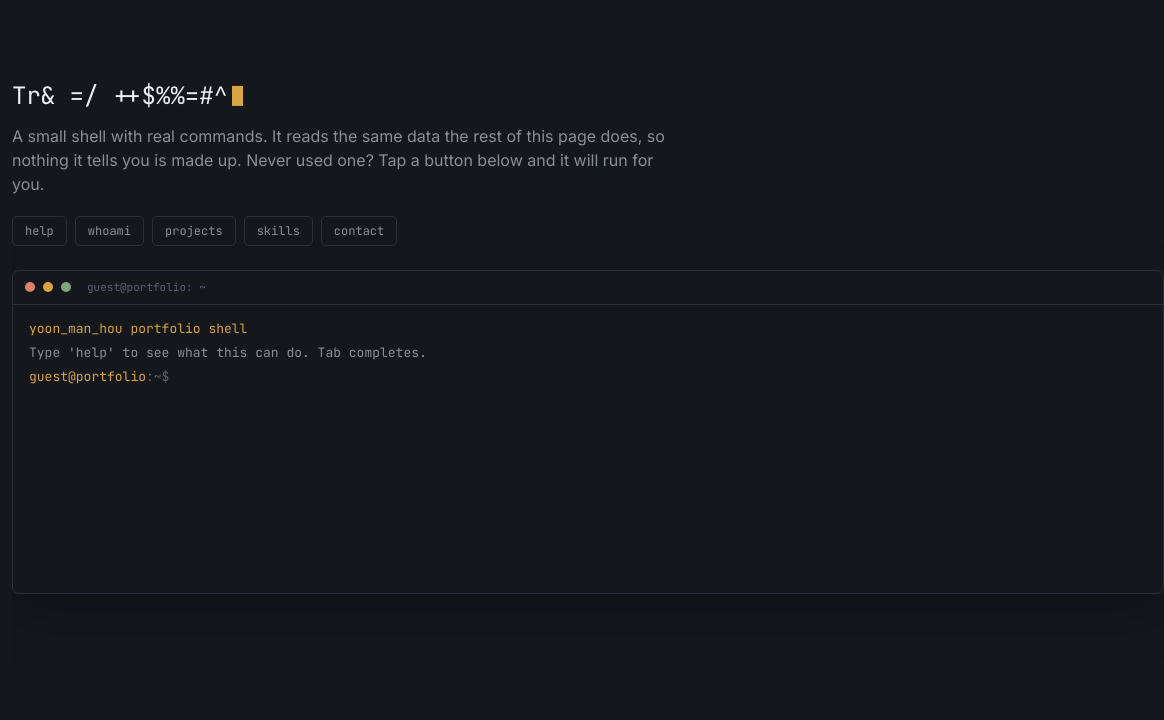
Test: TerminalDemo › echoes the command and prints its output
Click the field named "terminal input": {"x": 658, "y": 376} x1=169 y1=364 x2=1147 y2=388
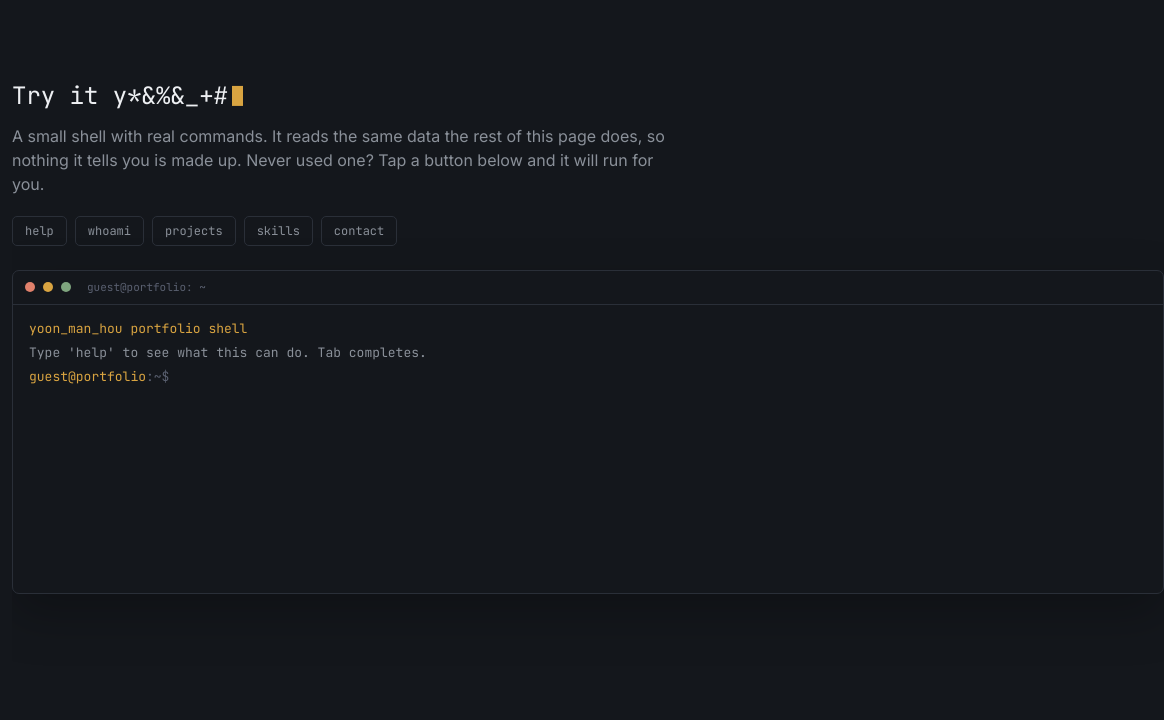
Type keys "whoami{Enter}"
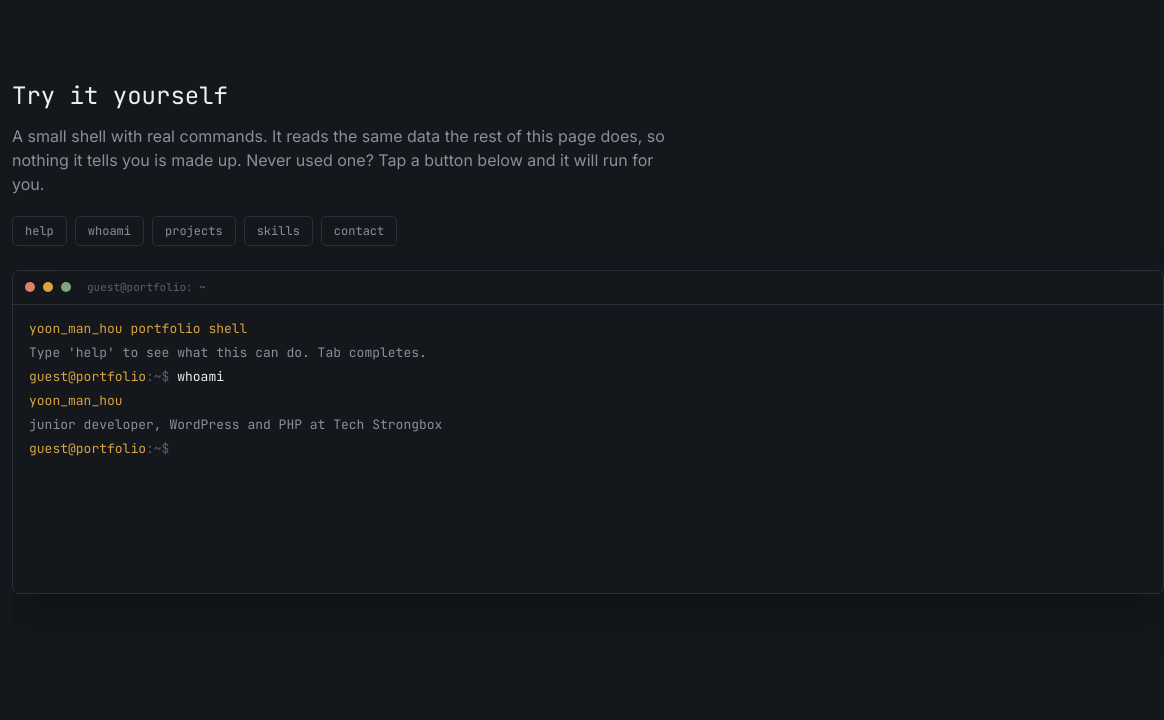
Result: the text "yoon_man_hou" is shown at x1=29 y1=392 x2=123 y2=408
